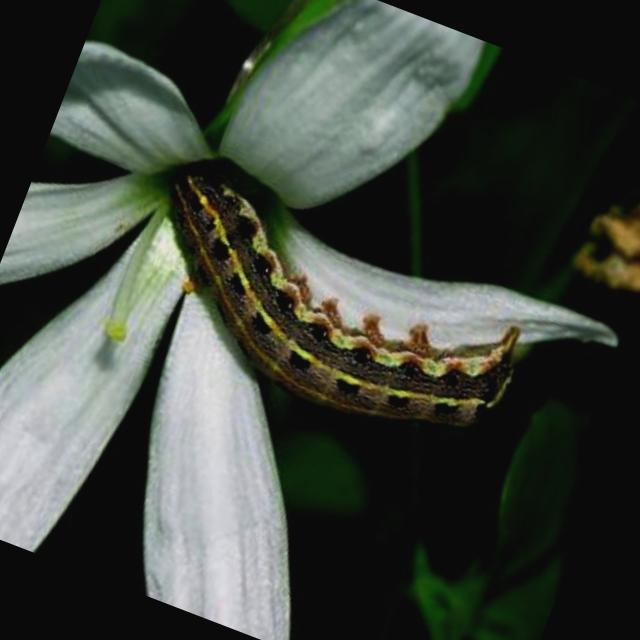Tobacco cutworm: (69, 105, 596, 510)
